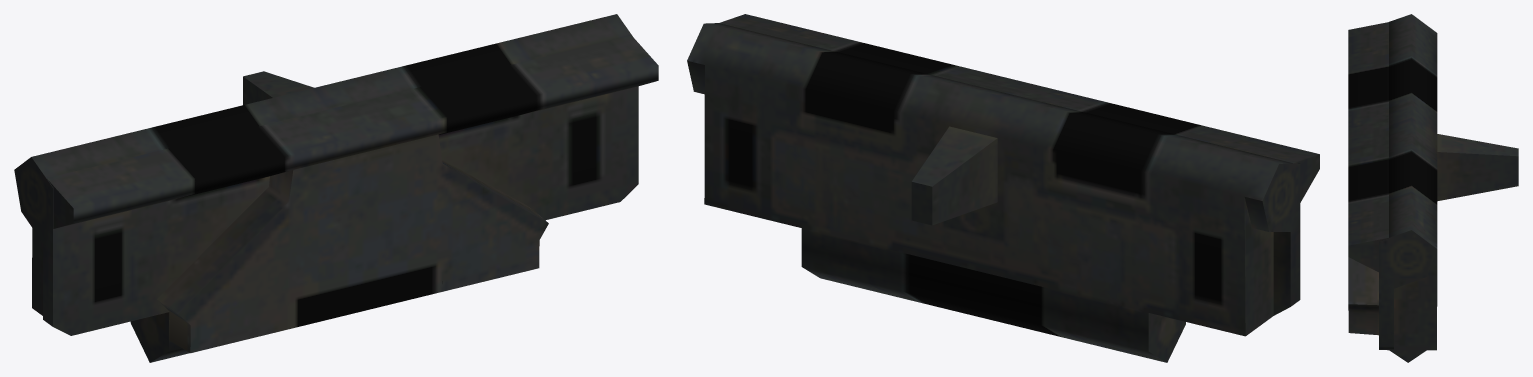
3 renders of one model, left to right at view 1: azimuth 30°, elevation 25°; view 2: azimuth 150°, elevation 25°; view 3: azimuth 270°, elevation 25°, orthographic. The views are drawn at different scales.
Parts seen in each view (by area): view 1: set_0_group_0; view 2: set_0_group_0; view 3: set_0_group_0.
Boxes of the visible parts, left/top/right/bottom form: set_0_group_0: left=14, top=14, right=658, bottom=362; set_0_group_0: left=687, top=14, right=1319, bottom=362; set_0_group_0: left=1348, top=14, right=1518, bottom=362.
Size of the model in its own units: 0.533 by 0.2023 by 0.1777.
Materials: 1 (1 with a texture image).
